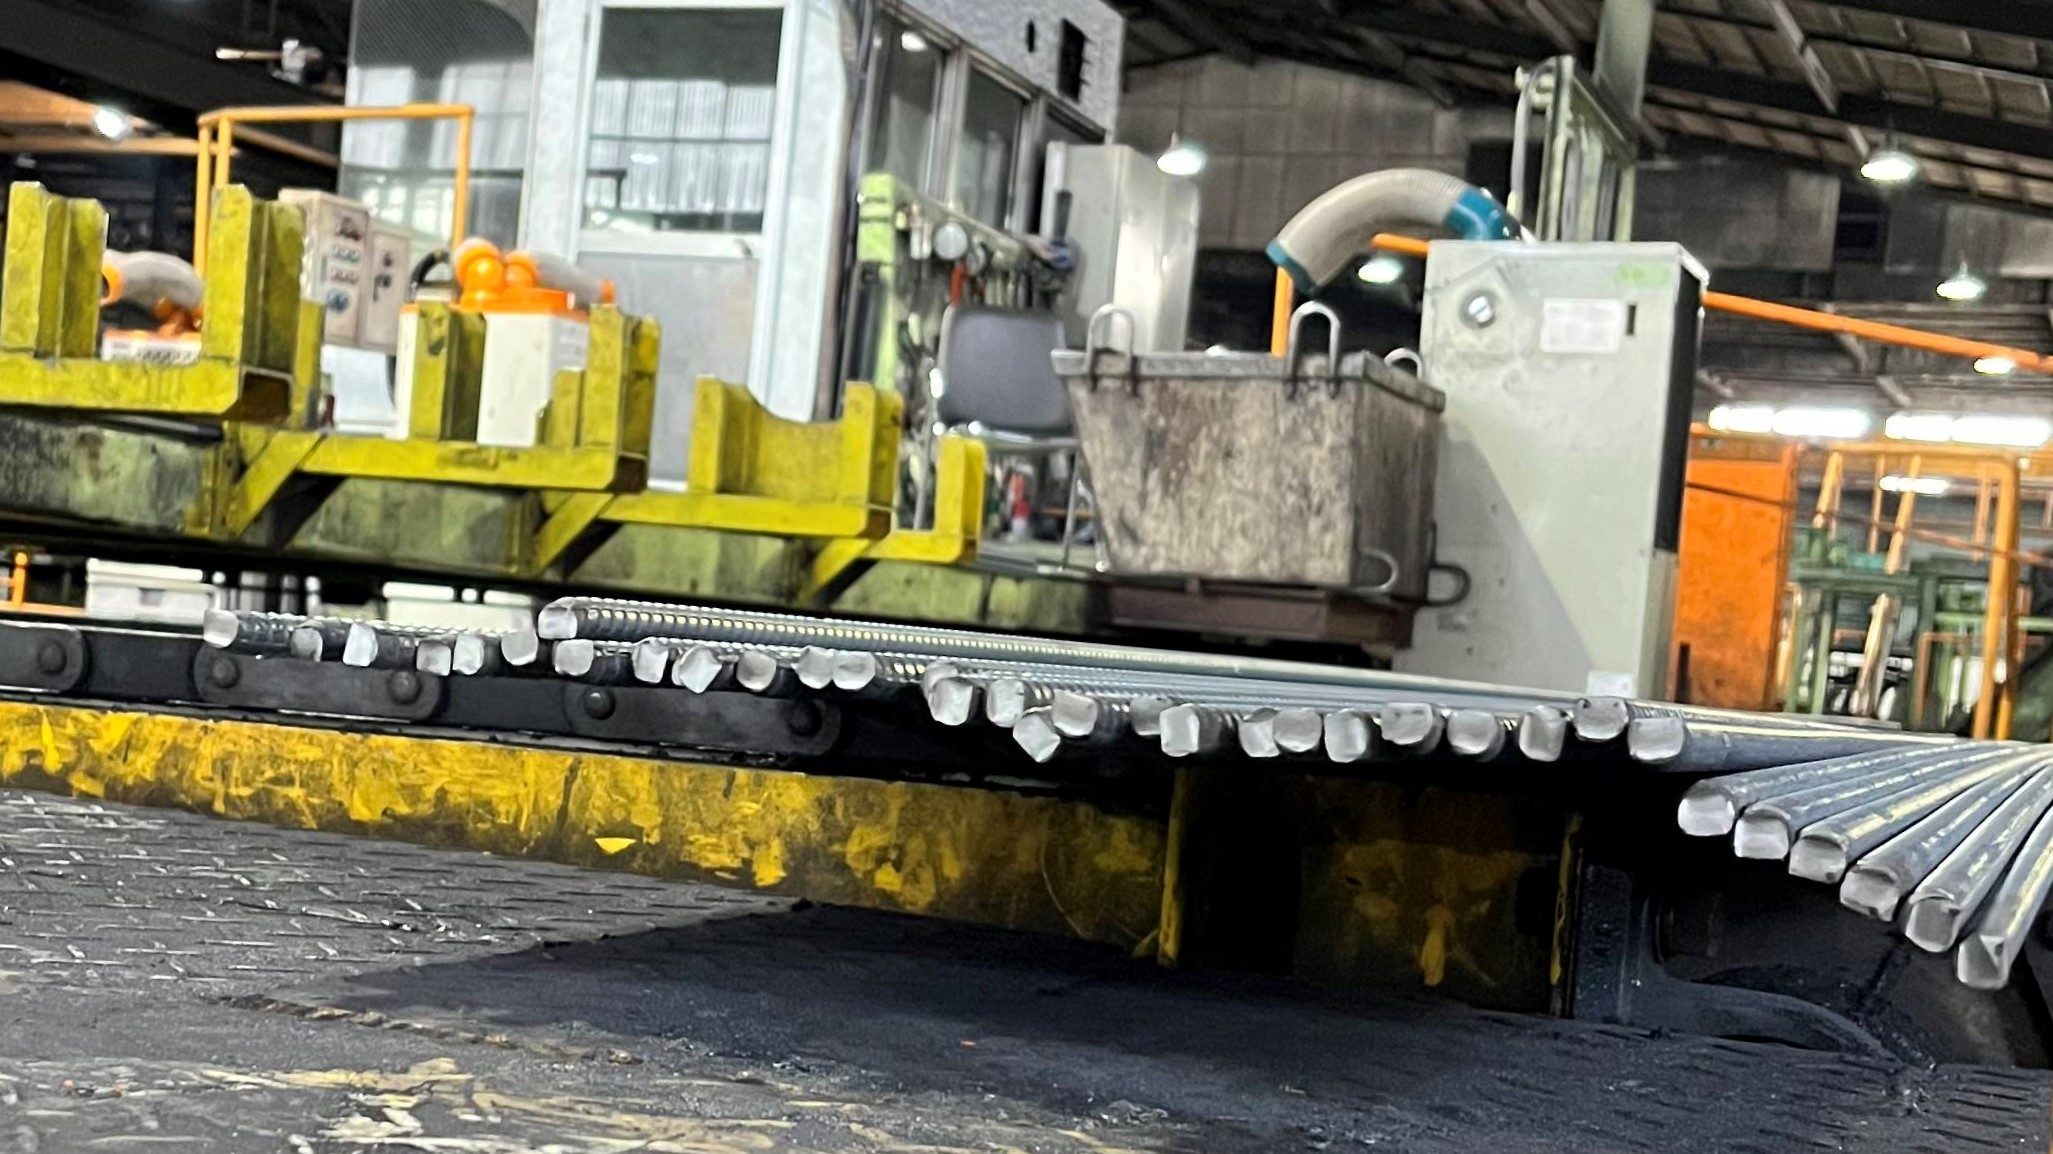rod: (1837, 863, 1898, 925), (1674, 782, 1736, 839), (1787, 830, 1849, 887), (1954, 931, 2012, 990), (1904, 893, 1960, 952), (1730, 808, 1791, 863), (1514, 704, 1568, 763), (1011, 710, 1063, 765), (1571, 694, 1630, 742), (1323, 708, 1371, 766), (1378, 700, 1435, 748), (1630, 712, 1688, 760), (1447, 705, 1497, 758), (1273, 703, 1324, 753), (1050, 686, 1100, 738), (1234, 705, 1279, 760), (926, 676, 974, 727), (675, 643, 721, 694), (1160, 705, 1201, 759), (984, 677, 1026, 728), (1127, 693, 1175, 736), (832, 646, 876, 693), (733, 650, 778, 694), (629, 638, 671, 683), (343, 618, 381, 666), (534, 602, 582, 640), (553, 638, 596, 677), (202, 604, 240, 649), (451, 631, 488, 677), (794, 643, 831, 690), (917, 655, 957, 696), (501, 624, 540, 666), (413, 636, 453, 674), (283, 626, 324, 662)
